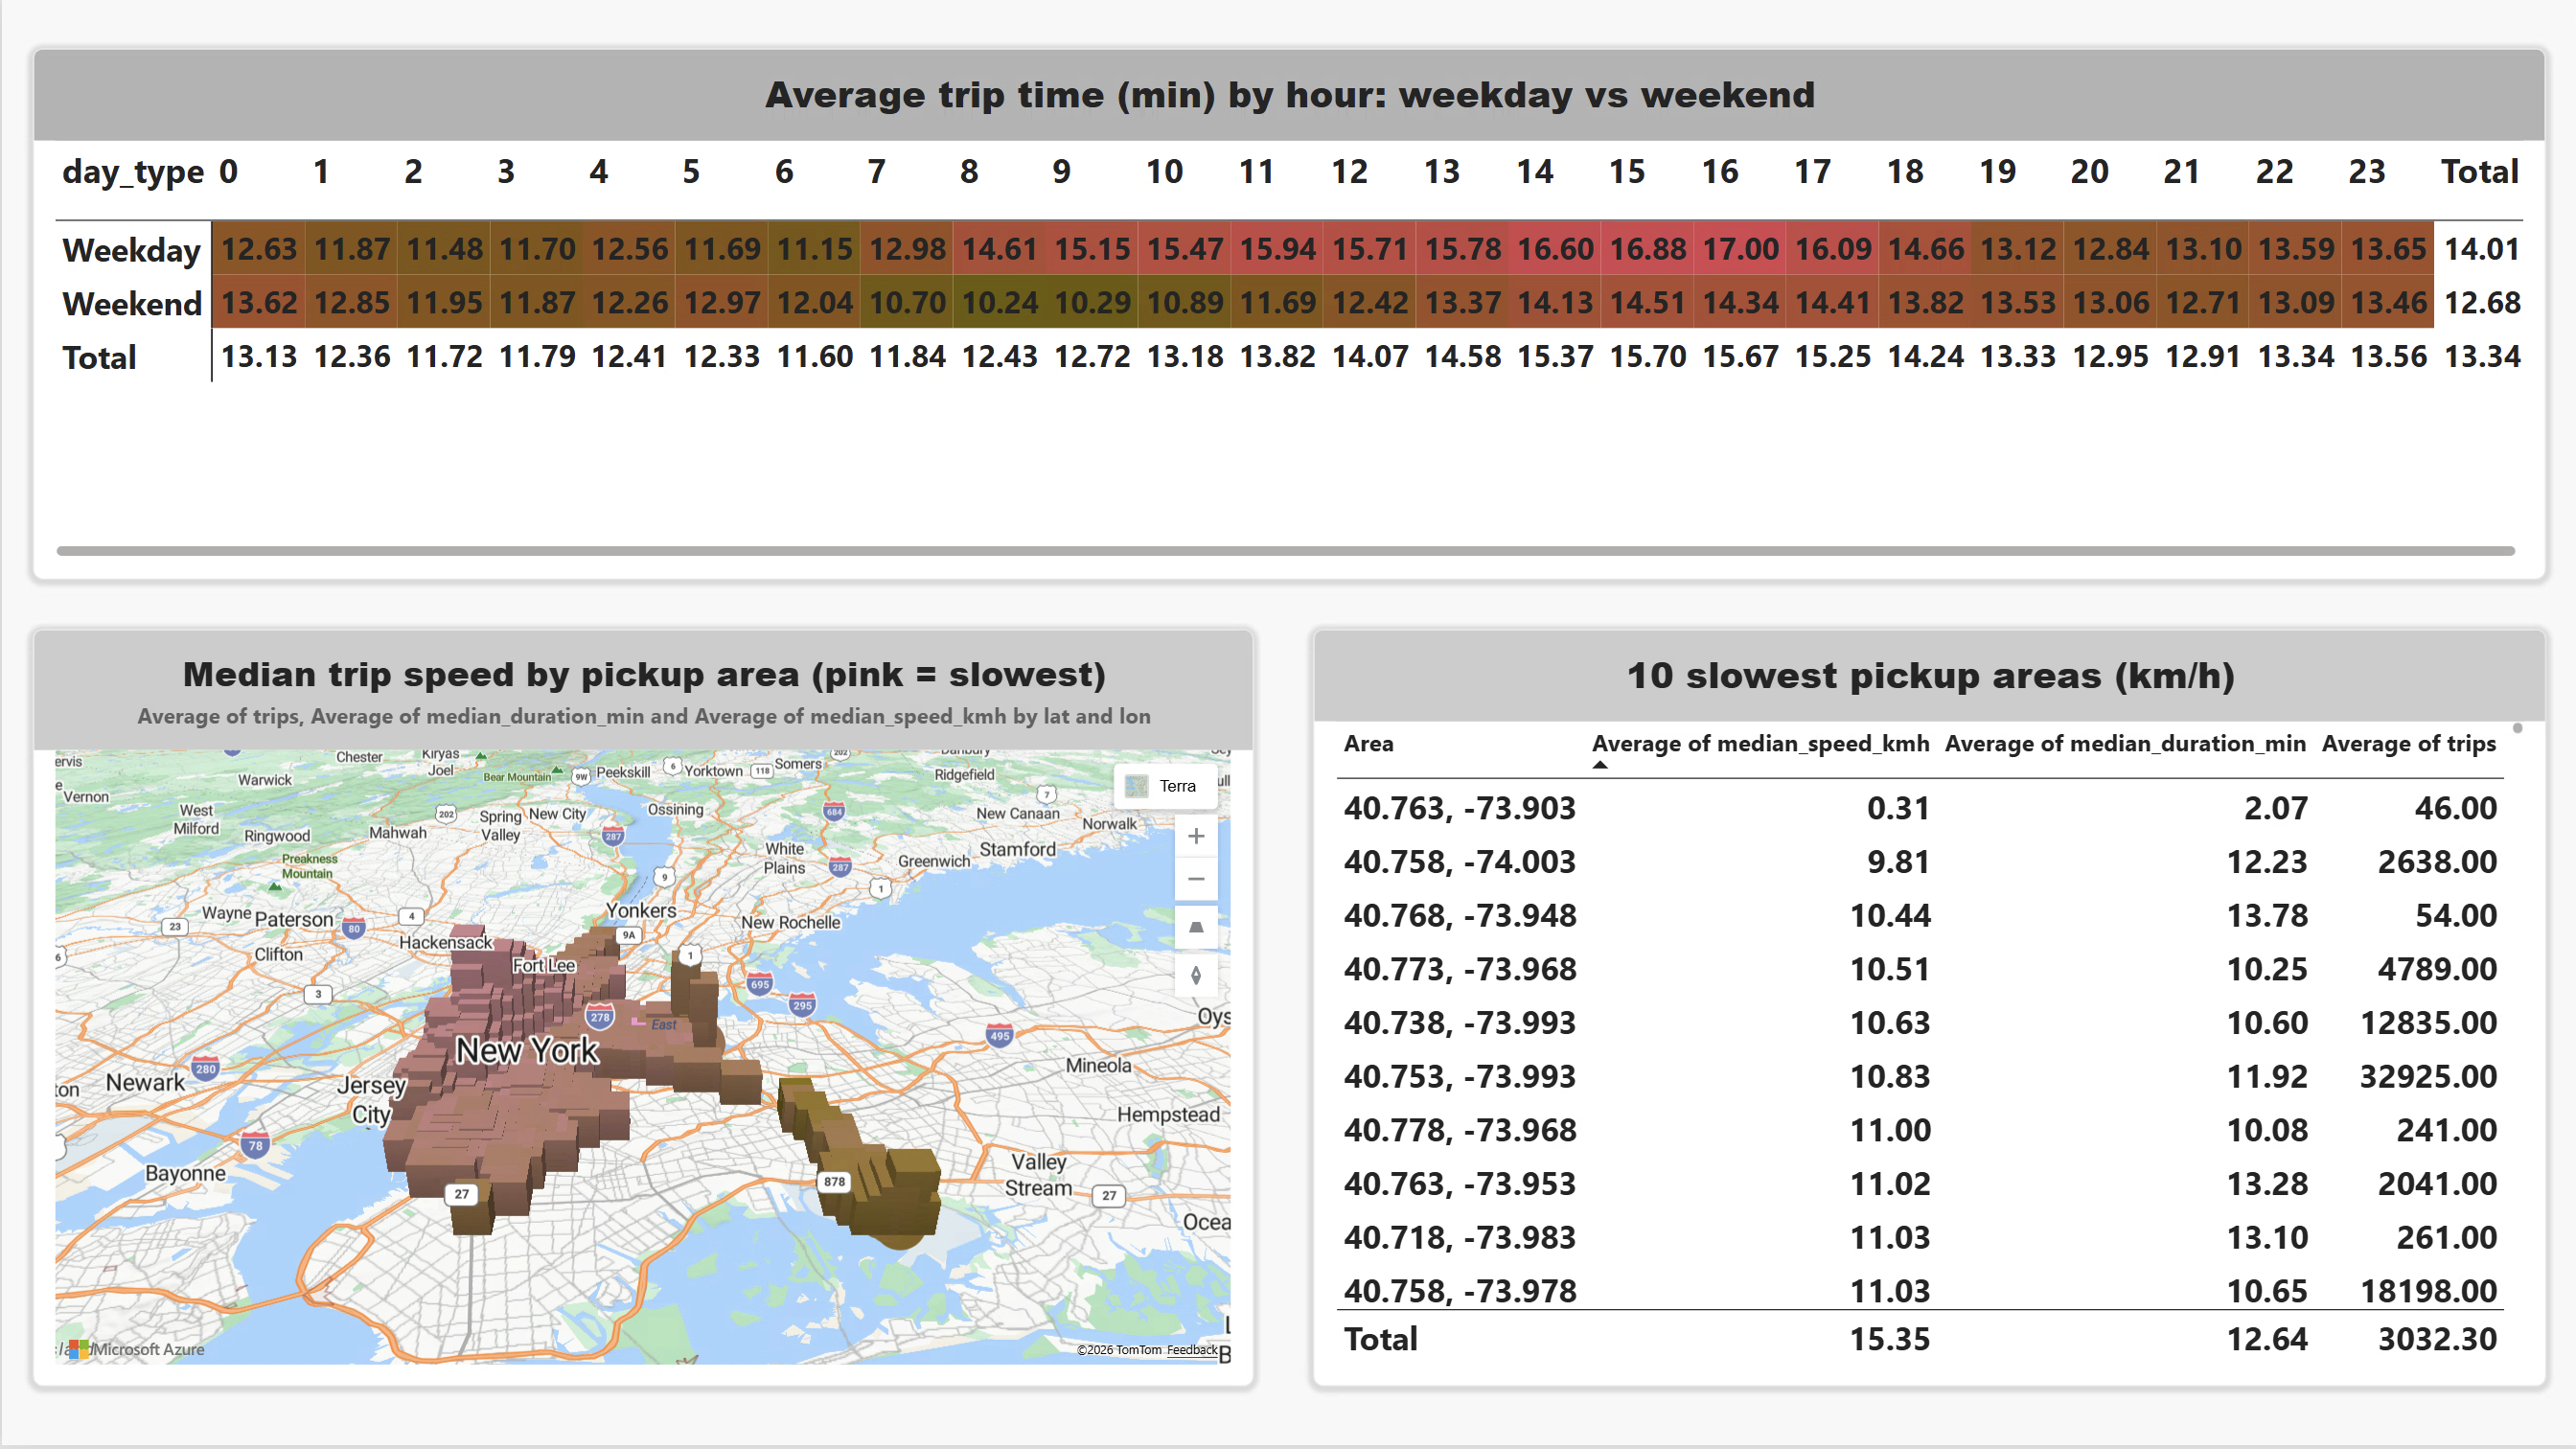

This screenshot's page, from the dashboard's own definition file:
{"tool":"powerbi","page":{"name":"When and where","canvas":[1920,1080],"ordinal":1},"visuals":[{"type":"pivotTable","title":"Average trip time (min) by hour: weekday vs weekend","fields":{"Columns":["hourly_by_weekday.pickup_hour"],"Rows":["hourly_by_weekday.day_type"],"Values":["Avg(hourly_by_weekday.avg_duration_min)"]},"box":[22.6,39.2,1873.3,396.4],"z":0},{"type":"azureMap","title":"Median trip speed by pickup area (pink = slowest)","fields":{"Size":["Avg(speed_by_area.trips)"],"X":["speed_by_area.lon"],"Y":["speed_by_area.lat"]},"box":[22.6,471.7,910.3,565.1],"z":1},{"type":"tableEx","title":"10 slowest pickup areas (km/h)","fields":{"Values":["speed_by_area.Area","Avg(speed_by_area.median_speed_kmh)","Avg(speed_by_area.median_duration_min)","Avg(speed_by_area.trips)"]},"box":[976.6,471.7,919.3,565.1],"z":2}]}

Visuals, with their boxes in screenshot pixels (x1, y1, x2, y2), scaled from the page's 1920x1080 canvas onto the 2576x1449 screenshot:
"Average trip time (min) by hour: weekday vs weekend" pivotTable: BBox(31, 53, 2543, 585)
"Median trip speed by pickup area (pink = slowest)" azureMap: BBox(31, 632, 1252, 1391)
"10 slowest pickup areas (km/h)" tableEx: BBox(1310, 632, 2543, 1391)
